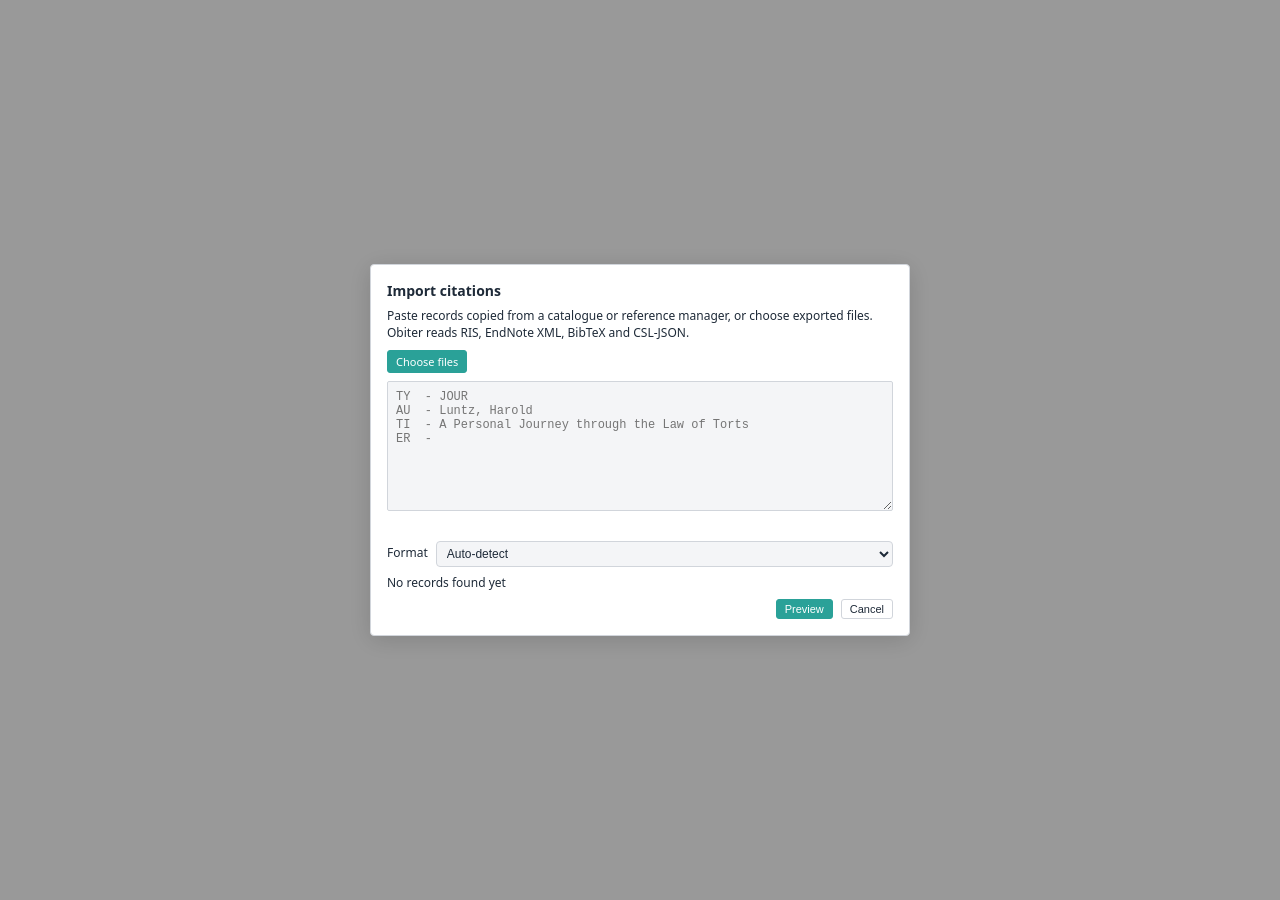
it: ImportDialog: sources step › detects pasted RIS and reports the count
expect the dialog "Import citations" is shown: met, box [370,264,910,636]
expect the button "Preview" is disabled: met, box [776,599,833,619]
Replace the text in the text box named "Pasted records" with "TY  - JOUR AU  - Luntz, Harold TI  - A Personal Journey through the Law of Torts JO  - Sydney Law Review VL  - 27 SP  - 393 PY  - 2005 ER  - TY  - BOOK TI  - Untitled Fragment ER  - " at (640, 446), box [387,381,893,511]
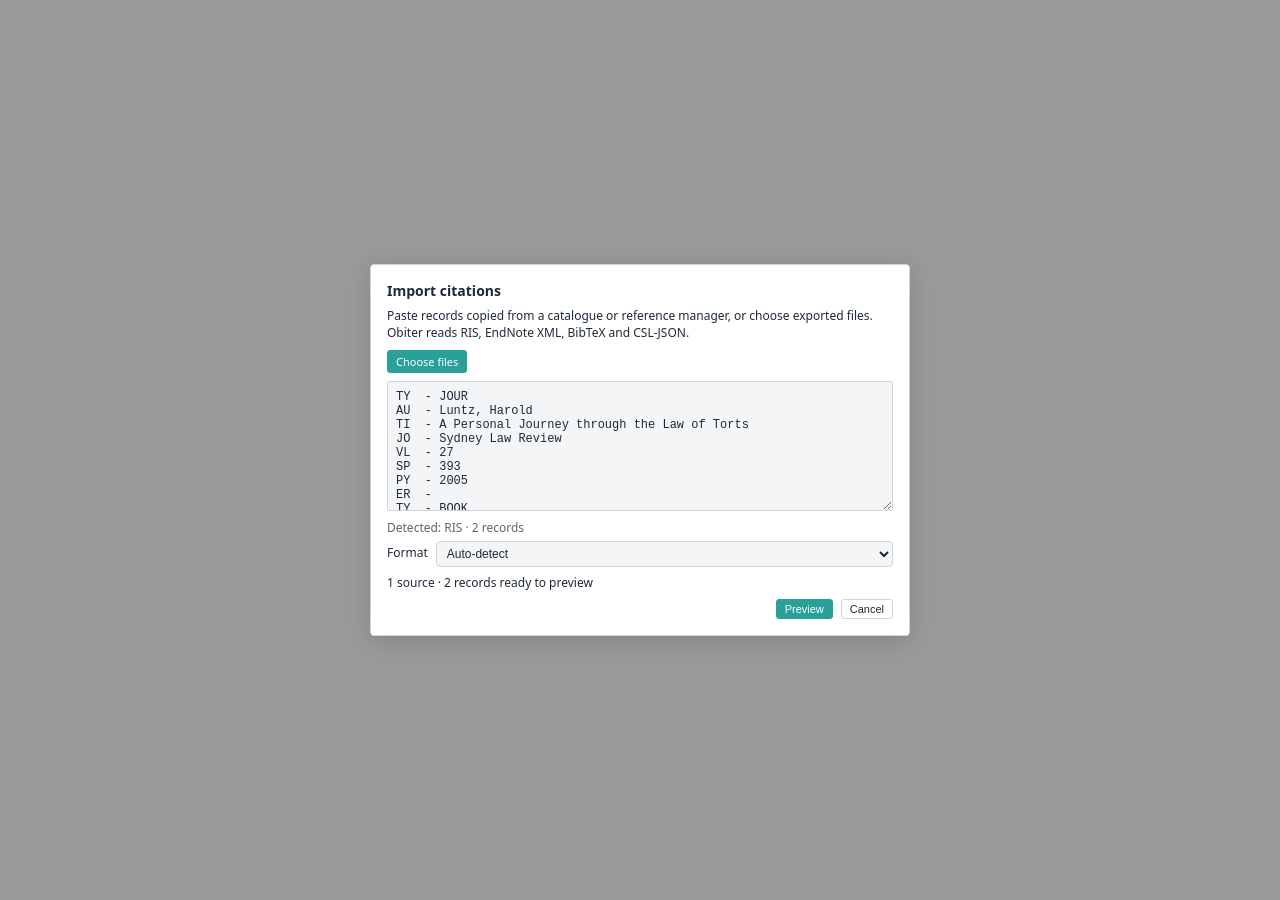
expect the text "Detected: RIS · 2 records" is shown: met, box [387,519,524,536]
expect the text "1 source · 2 records ready to preview" is shown: met, box [387,574,593,591]
